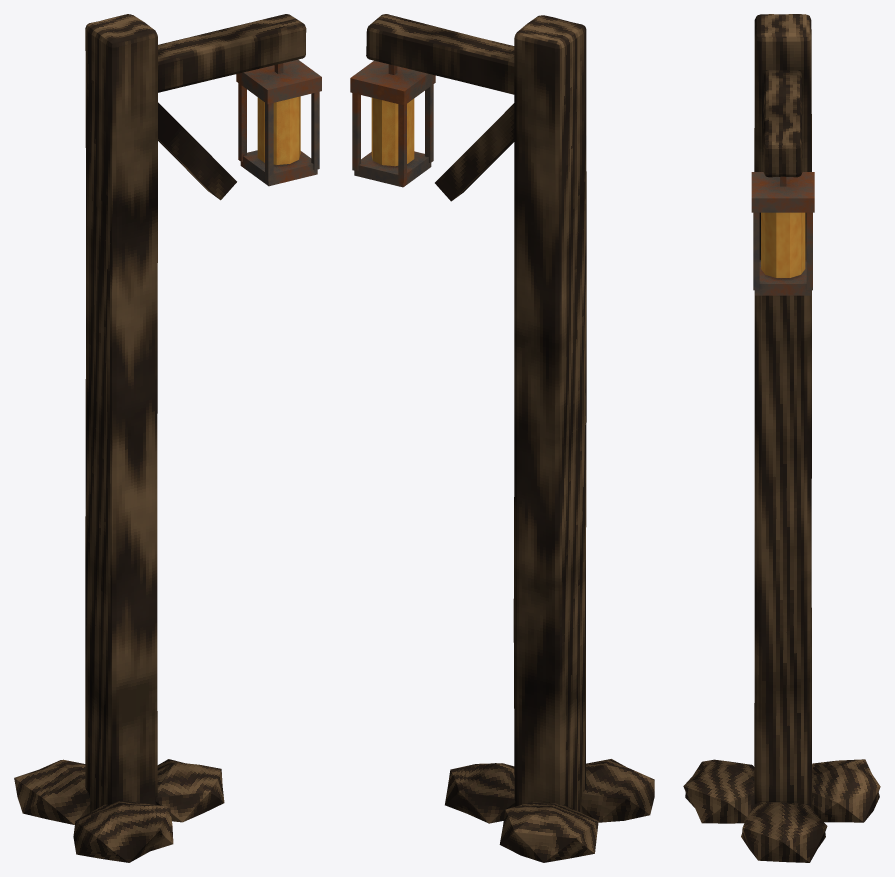
The model's file is mine_lamp_post.glb.
3 renders of one model, left to right at view 1: azimuth 30°, elevation 25°; view 2: azimuth 150°, elevation 25°; view 3: azimuth 270°, elevation 25°, orthographic.
Visible parts, largest first — view 1: mine_lamp_post; view 2: mine_lamp_post; view 3: mine_lamp_post.
Boxes of the visible parts, <box> form: mine_lamp_post: <box>14,14,321,862</box>; mine_lamp_post: <box>350,14,654,862</box>; mine_lamp_post: <box>683,14,880,862</box>.
Size of the model in its own units: 0.9478 by 2.8 by 0.627.
3 materials, 3 textured.
